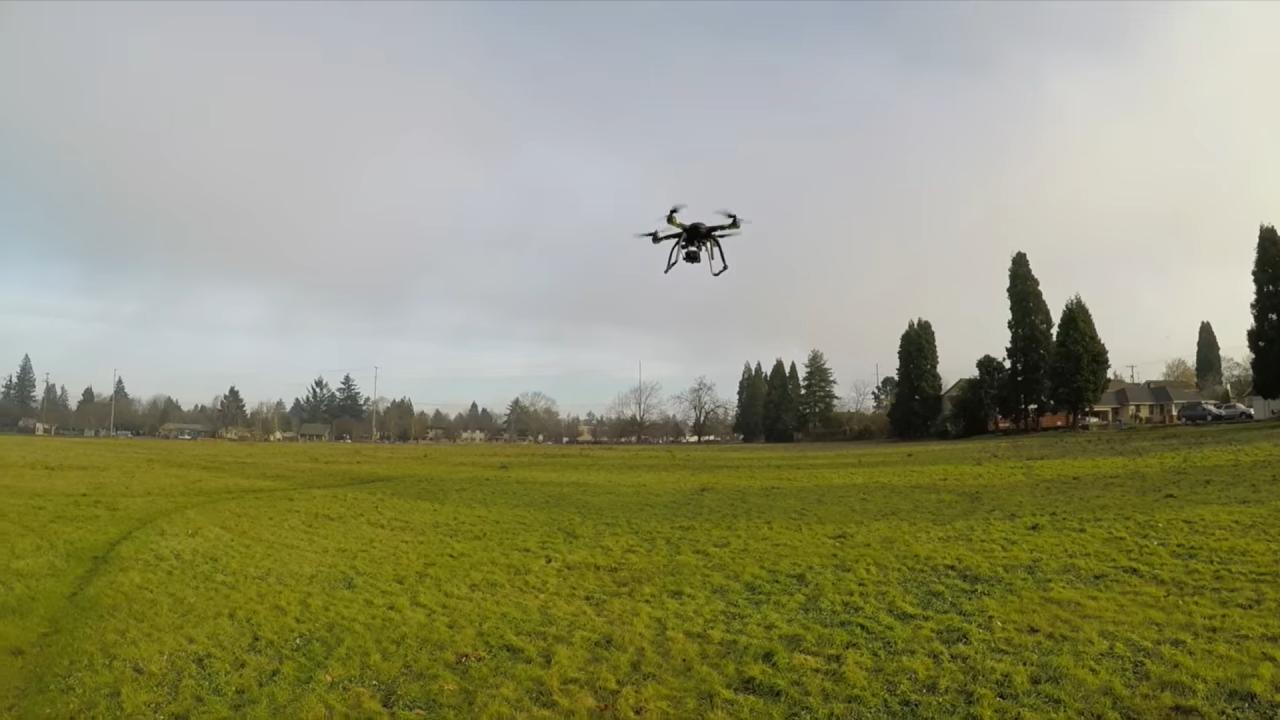Drone: (627, 194, 754, 282)
